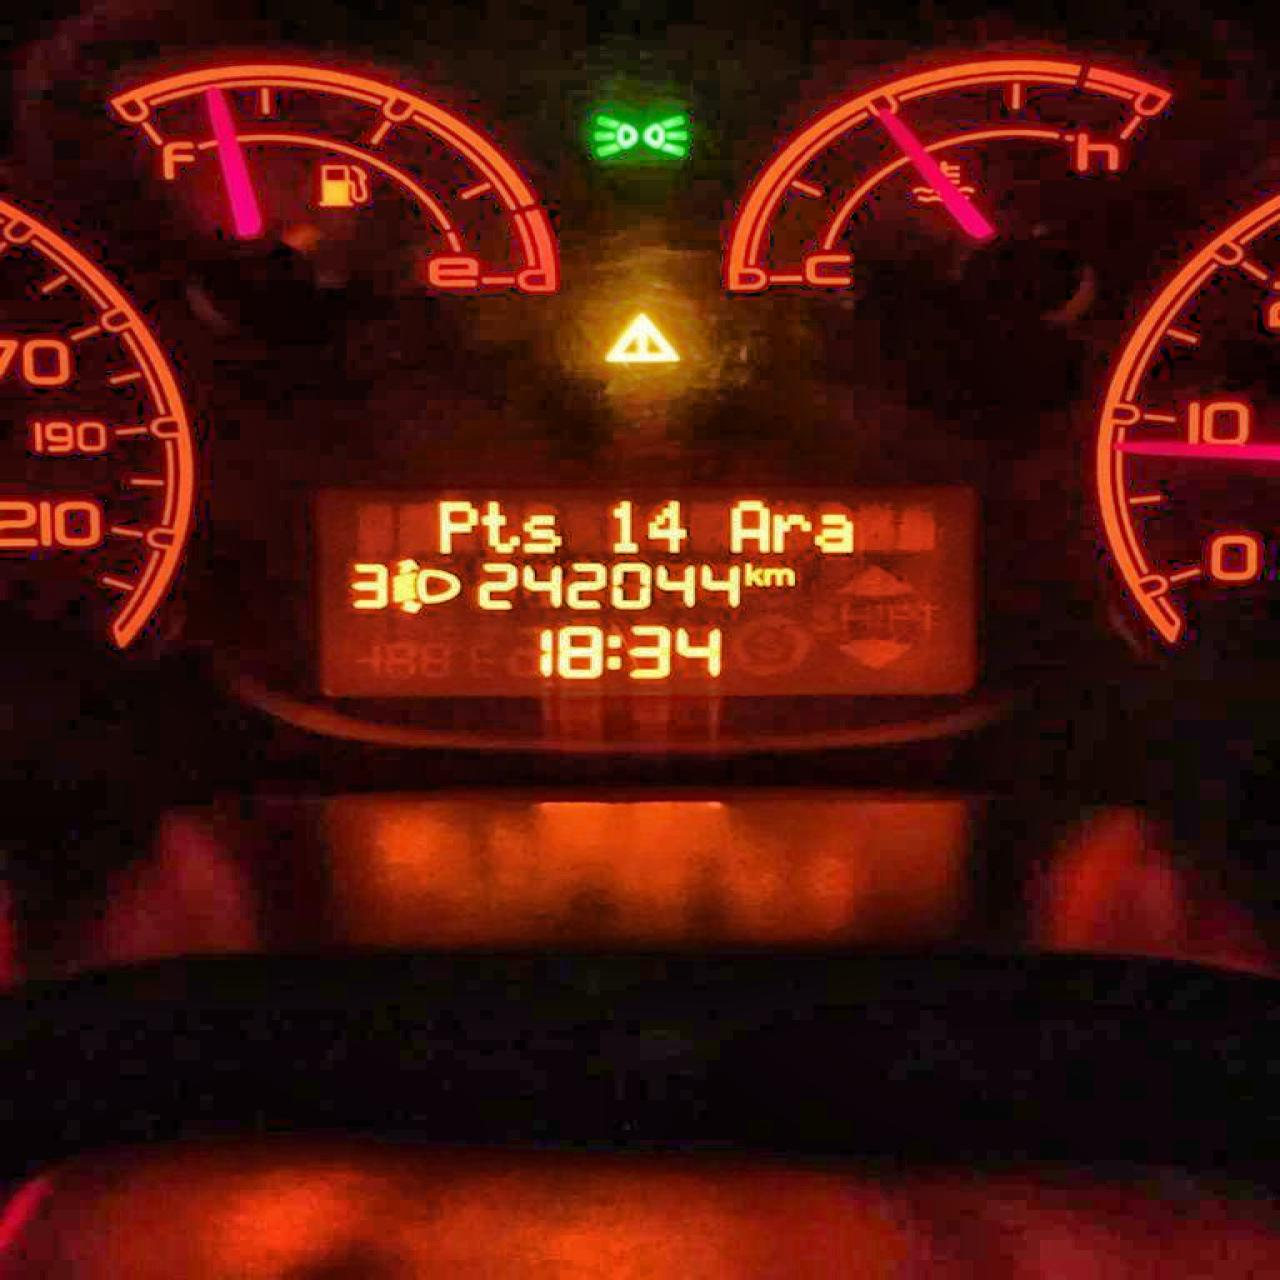0: (608, 559, 649, 610)
1: (610, 495, 640, 557), (532, 624, 556, 680)
2: (474, 557, 515, 614), (566, 558, 606, 612)
3: (625, 622, 670, 680), (349, 557, 388, 612)
4: (645, 497, 695, 558), (672, 621, 723, 680), (699, 559, 740, 610), (520, 560, 561, 610), (653, 561, 695, 607)
8: (556, 622, 601, 680)
X: (727, 495, 768, 551), (435, 497, 475, 553), (482, 497, 518, 553), (810, 510, 855, 554), (519, 511, 564, 554), (770, 509, 810, 553), (763, 564, 795, 587), (605, 628, 620, 674), (742, 558, 762, 586)
odometer: (306, 482, 981, 702)
